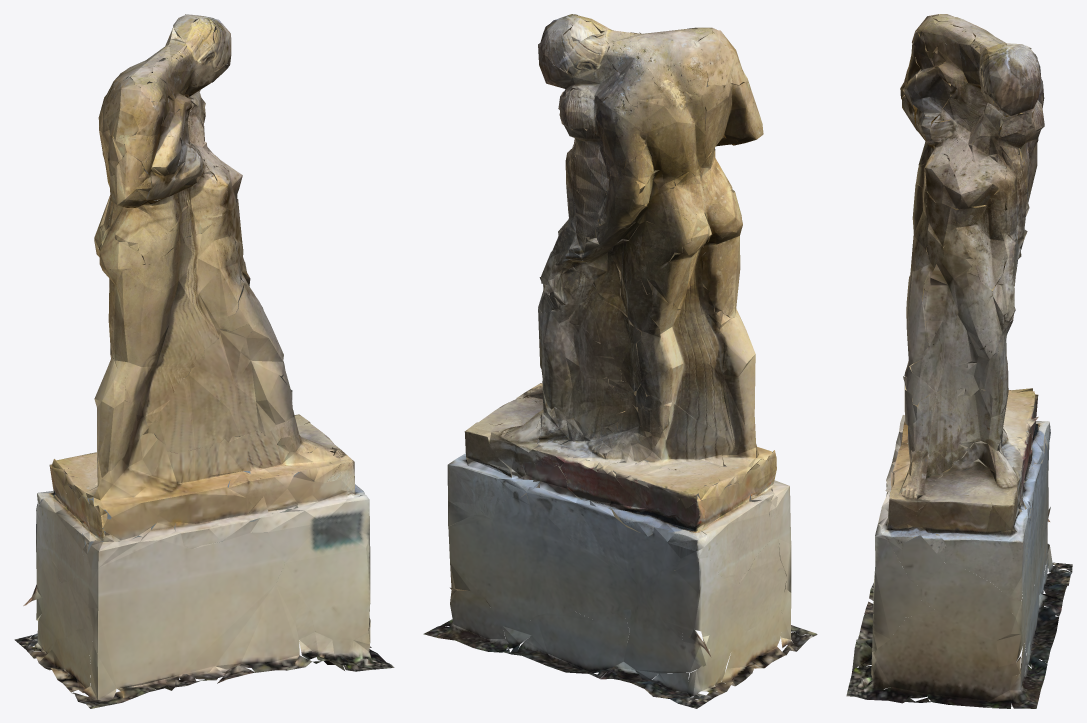
File: kossinn_an_gras_dec.obj
The picture shows the model from 3 angles, left to right: view 1: azimuth 30°, elevation 25°; view 2: azimuth 150°, elevation 25°; view 3: azimuth 270°, elevation 25°; orthographic projection. The views are drawn at different scales.
Parts seen in each view (by area): view 1: Object; view 2: Object; view 3: Object.
Part boxes in pixels (left/top/right/bottom): Object: left=14, top=14, right=394, bottom=708; Object: left=423, top=14, right=817, bottom=708; Object: left=846, top=14, right=1072, bottom=708.
Size of the model in its own units: 0.8334 by 1.62 by 0.5531.
1 material, 1 textured.
